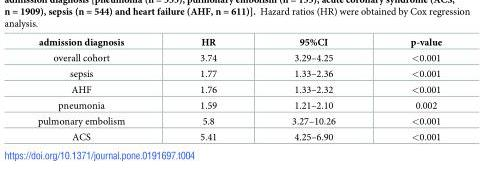table: (36, 36, 441, 141)
table column: (36, 36, 161, 141), (253, 36, 372, 141), (161, 36, 253, 141), (372, 36, 441, 141)
table column header: (36, 36, 441, 49)
table row: (36, 49, 441, 65), (36, 65, 441, 81), (36, 81, 441, 97), (36, 97, 441, 113), (36, 113, 441, 128), (36, 36, 441, 49), (36, 128, 441, 141)
